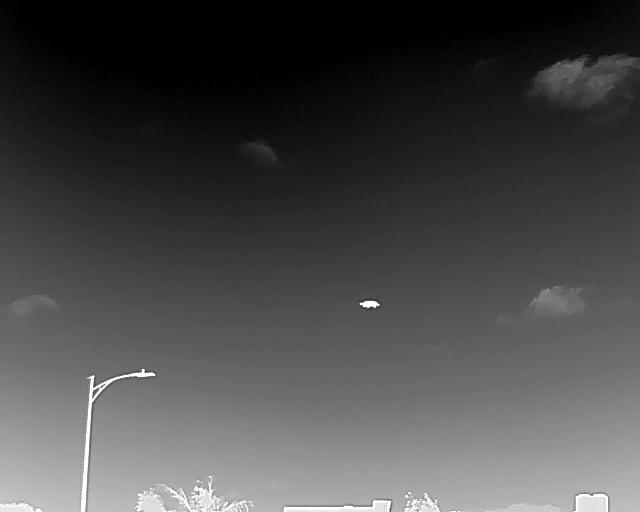fpv-drone: (359, 300, 379, 308)
